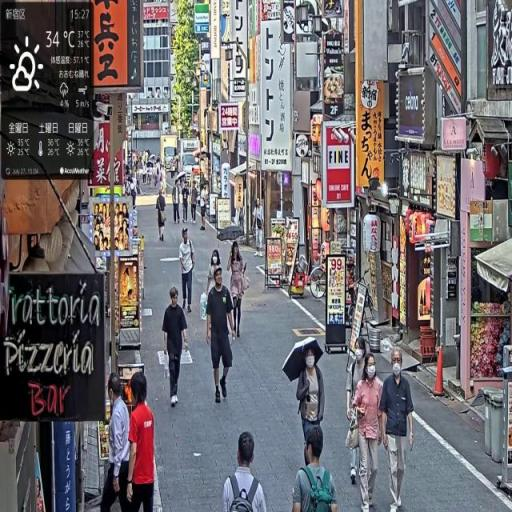person: (380, 348, 417, 512), (99, 370, 134, 512), (205, 265, 239, 409), (355, 353, 384, 512), (292, 425, 340, 512), (127, 370, 156, 512), (224, 431, 268, 512), (162, 286, 191, 408), (347, 337, 370, 489), (228, 241, 250, 341), (179, 228, 198, 313), (253, 196, 267, 257), (157, 188, 167, 245)
